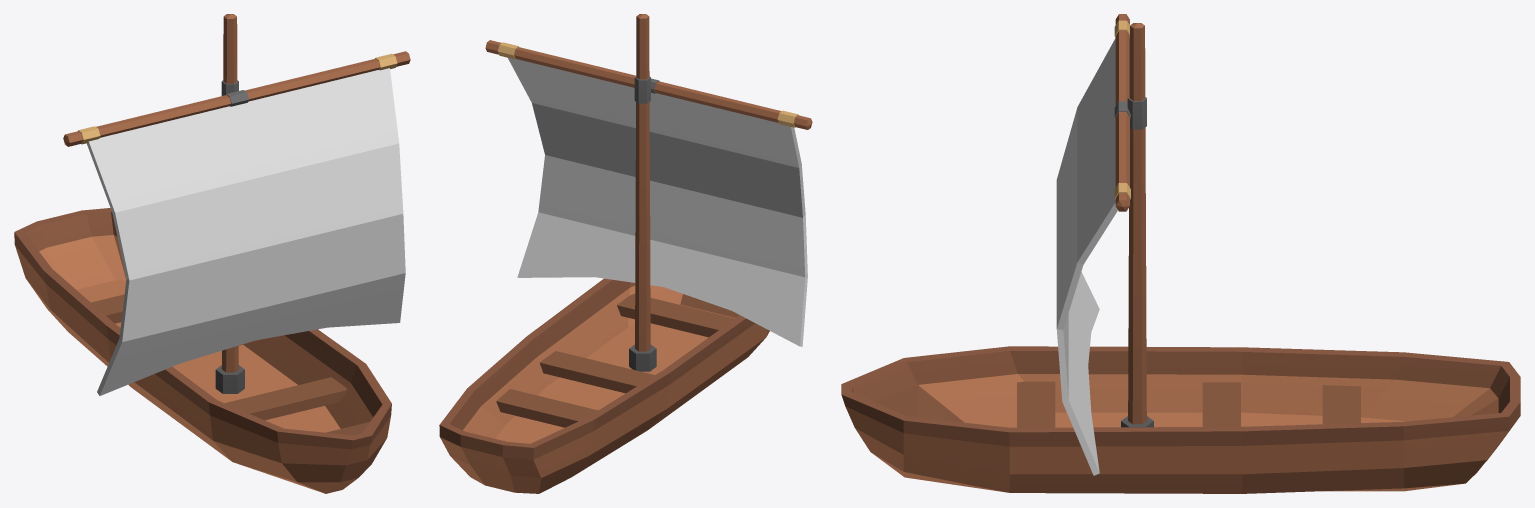
Rendered from sailboat-2.glb.
3 renders of one model, left to right at view 1: azimuth 30°, elevation 25°; view 2: azimuth 150°, elevation 25°; view 3: azimuth 270°, elevation 25°, orthographic. The views are drawn at different scales.
Visible parts, largest first — view 1: sailboat_2; view 2: sailboat_2; view 3: sailboat_2.
Boxes of the visible parts, x1,y1,x2,y2 form: sailboat_2: (14, 14, 410, 493); sailboat_2: (439, 14, 812, 493); sailboat_2: (841, 14, 1520, 493).
Bounding box in the file's own units: 4.23 × 4.86 × 6.46.
1 material, 1 textured.
